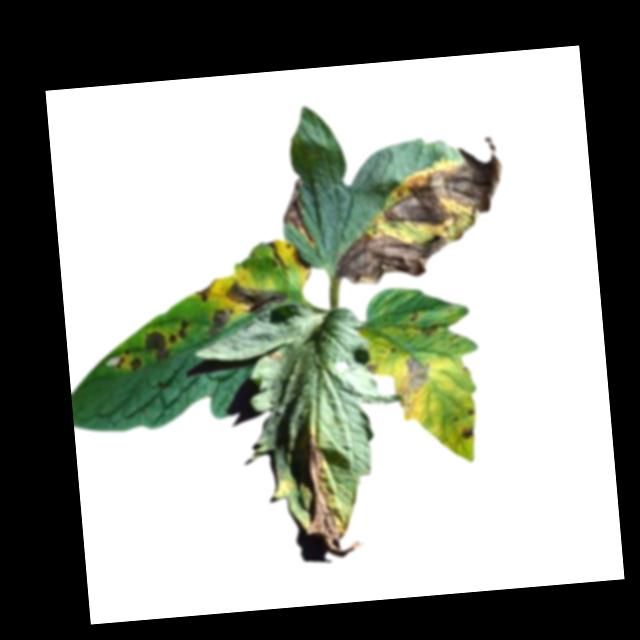Early_blight: (361, 133, 509, 230), (328, 221, 476, 289), (297, 426, 367, 560), (279, 175, 320, 245), (226, 273, 289, 318), (394, 349, 432, 410), (142, 328, 170, 362), (202, 304, 230, 337), (113, 348, 143, 372), (193, 280, 217, 306), (167, 318, 191, 344), (289, 247, 312, 270), (416, 322, 441, 339), (459, 422, 477, 440), (408, 309, 424, 324)
